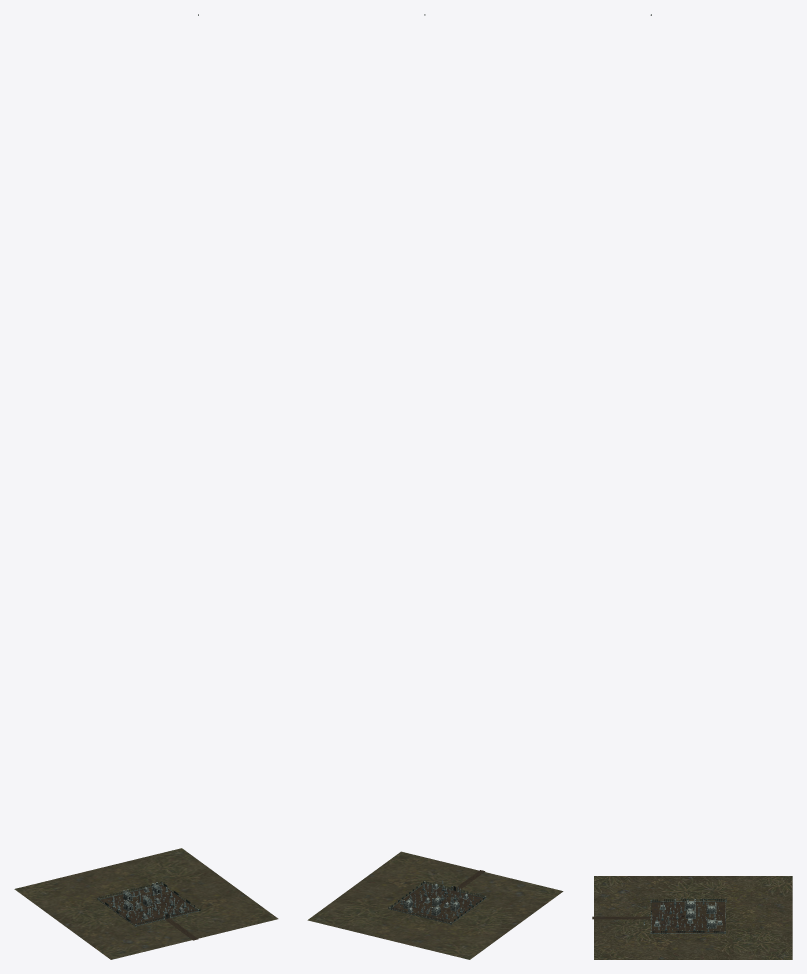
Rendered from cemetry.glb.
The picture shows the model from 3 angles, left to right: view 1: azimuth 30°, elevation 25°; view 2: azimuth 150°, elevation 25°; view 3: azimuth 270°, elevation 25°; orthographic projection. The views are drawn at different scales.
Parts seen in each view (by area): view 1: Grass, Ground; view 2: Grass, Ground; view 3: Grass, Ground.
Boxes of the visible parts, box(x1,y1,x2,y2) form: Grass: box(14, 848, 278, 959); Ground: box(100, 885, 196, 925); Grass: box(307, 851, 563, 959); Ground: box(391, 884, 482, 923); Grass: box(594, 876, 792, 959); Ground: box(651, 902, 725, 933).
Size of what is drawn, in the model's own units: 160 by 821 by 161.
5 materials, 5 textured.
